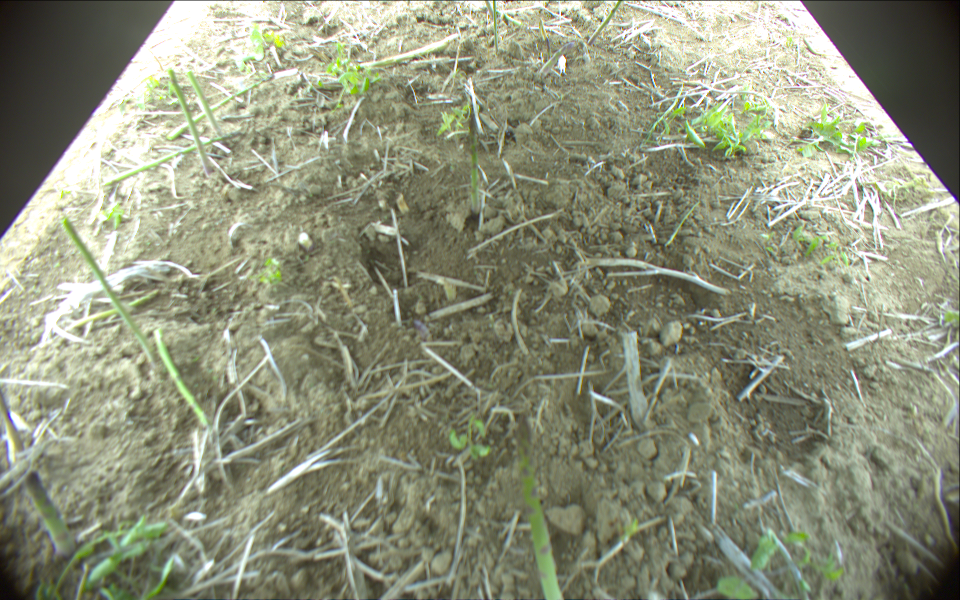aspa: (56, 214, 153, 361), (1, 390, 78, 558), (514, 426, 571, 600), (97, 132, 241, 192), (167, 78, 268, 140), (154, 327, 210, 426), (171, 71, 215, 174), (347, 32, 457, 69), (187, 71, 217, 133), (586, 1, 621, 44), (492, 1, 499, 50)
